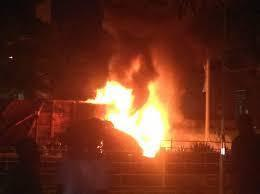fire: (87, 74, 178, 158)
